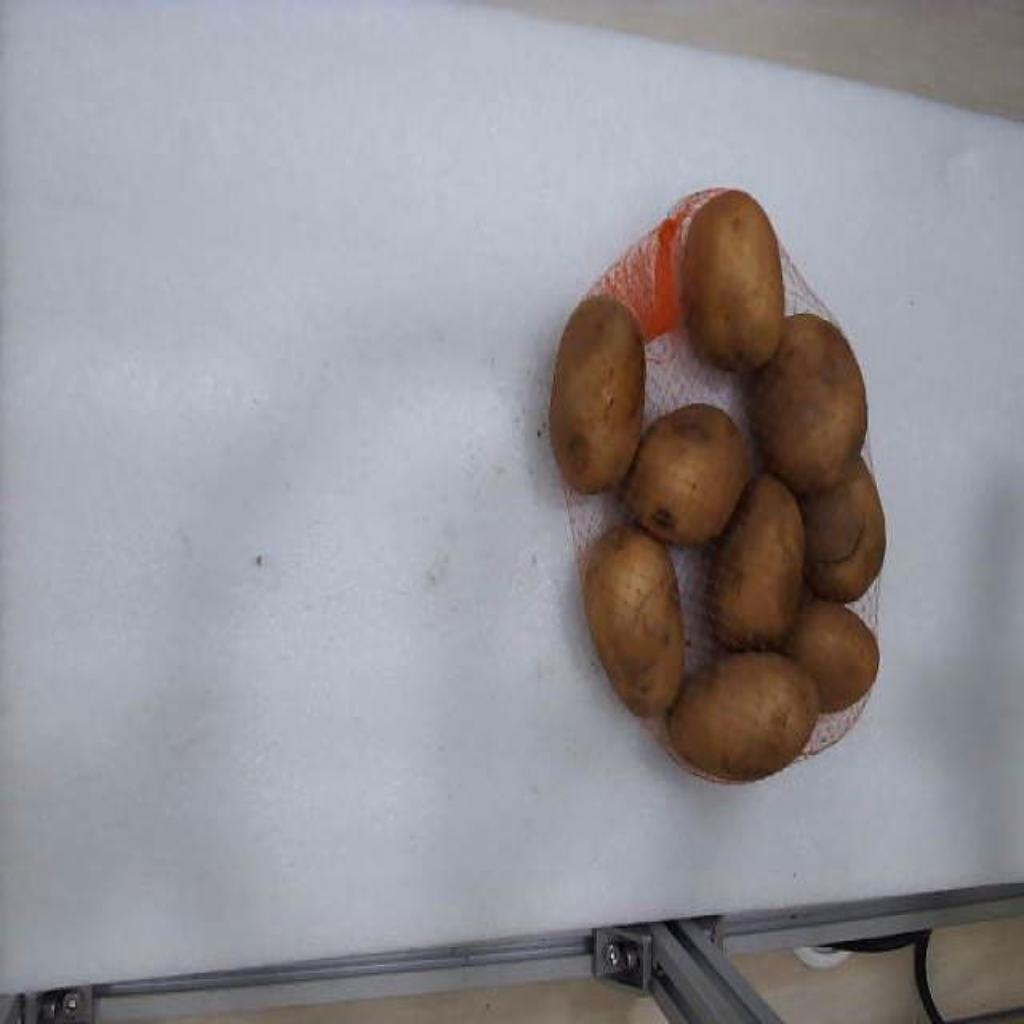potato: (752, 315, 868, 493), (668, 651, 820, 780), (550, 296, 644, 493), (588, 525, 684, 716), (680, 189, 780, 371), (626, 405, 748, 545), (710, 475, 802, 649), (800, 461, 886, 601), (784, 603, 878, 712)
